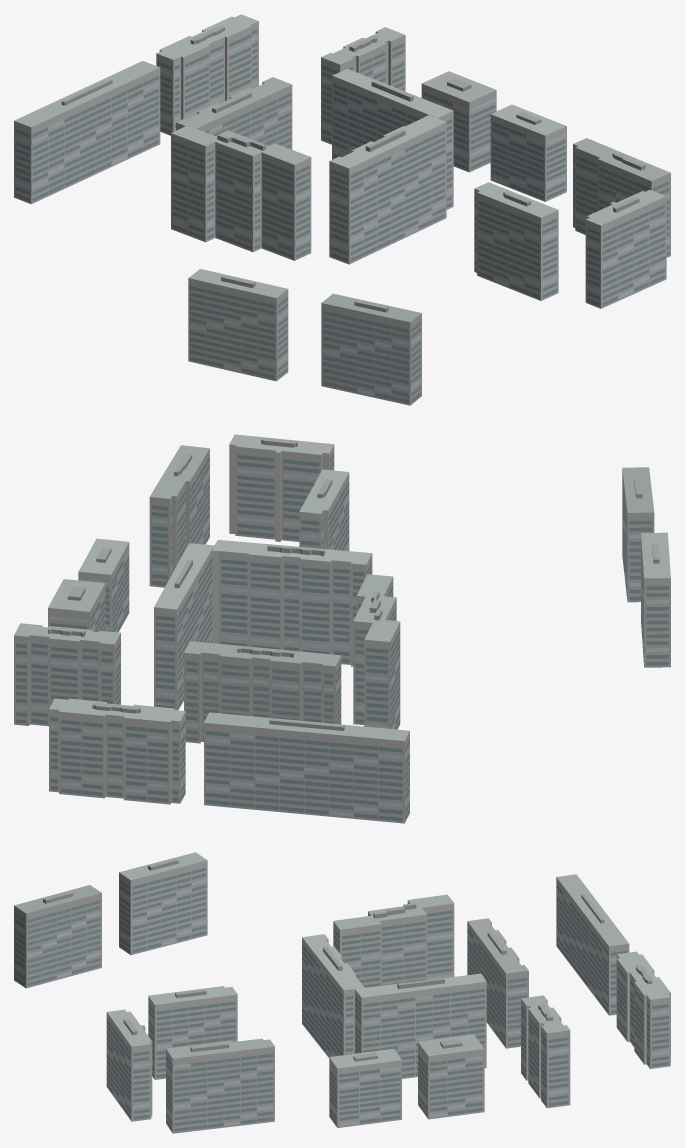
The model's file is apt-a13511101.glb.
3 views of the same model, one above another, from view 1: azimuth 30°, elevation 25°; view 2: azimuth 150°, elevation 25°; view 3: azimuth 270°, elevation 25° (orthographic). The views are drawn at different scales.
Parts seen in each view (by area): view 1: apt-a13511101; view 2: apt-a13511101; view 3: apt-a13511101.
Part boxes in pixels (x1,y1,x2,y2): apt-a13511101: [14, 14, 670, 405]; apt-a13511101: [14, 434, 670, 823]; apt-a13511101: [14, 852, 670, 1133].
Size of the model in its own units: 234 by 47.81 by 315.
